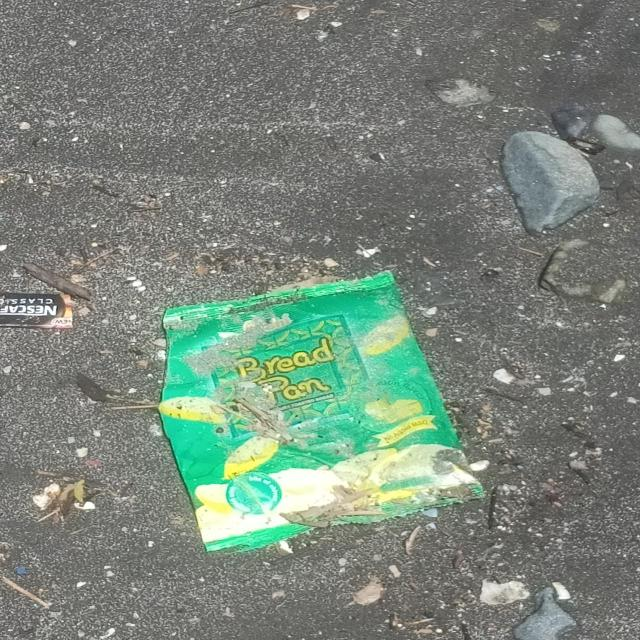plastic_waste: (157, 271, 490, 556), (1, 294, 77, 331)
